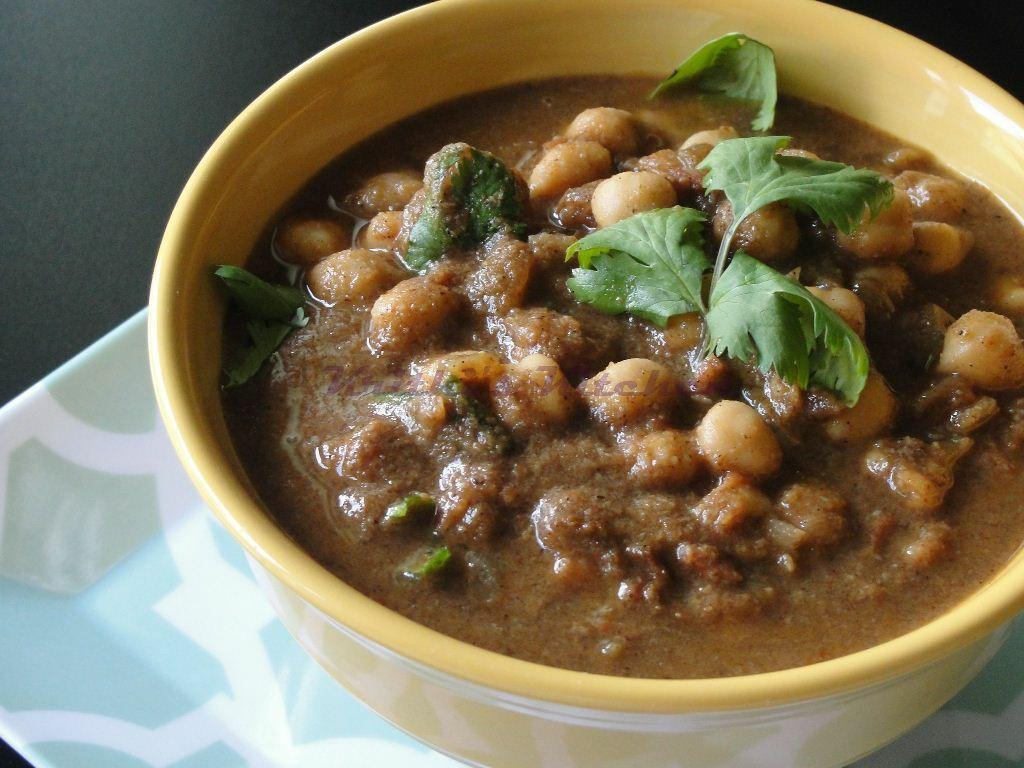Chole: (221, 74, 1024, 679)
